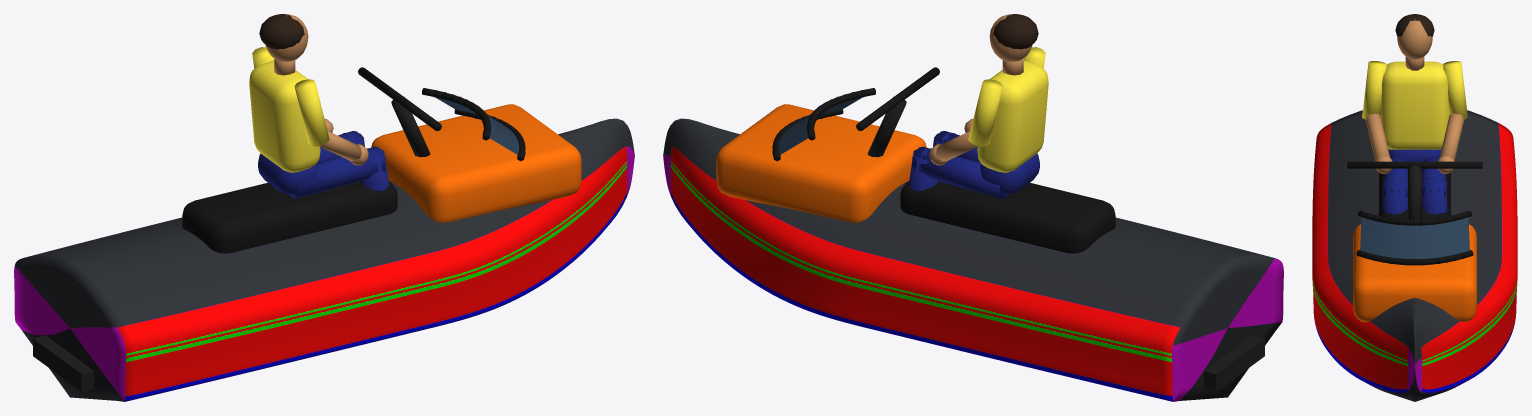
File: JetSki.glb
The picture shows the model from 3 angles, left to right: view 1: azimuth 30°, elevation 25°; view 2: azimuth 150°, elevation 25°; view 3: azimuth 270°, elevation 25°; orthographic projection. The views are drawn at different scales.
Parts seen in each view (by area): view 1: JetSki; view 2: JetSki; view 3: JetSki.
Boxes of the visible parts, x1,y1,x2,y2 form: JetSki: (14, 14, 634, 401); JetSki: (663, 14, 1283, 401); JetSki: (1312, 14, 1517, 401).
Size of the model in its own units: 3.41 by 1.86 by 1.19.
14 materials, 1 textured.
